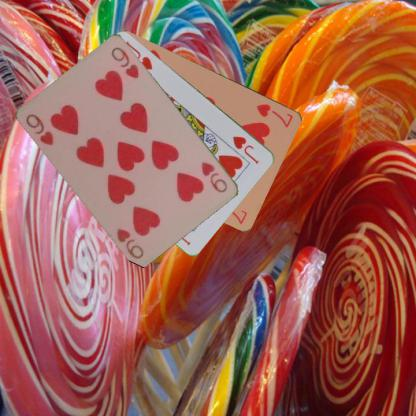7h: (254, 100, 294, 129)
9h: (23, 111, 56, 147), (199, 160, 229, 194)
Jh: (230, 133, 260, 166)
